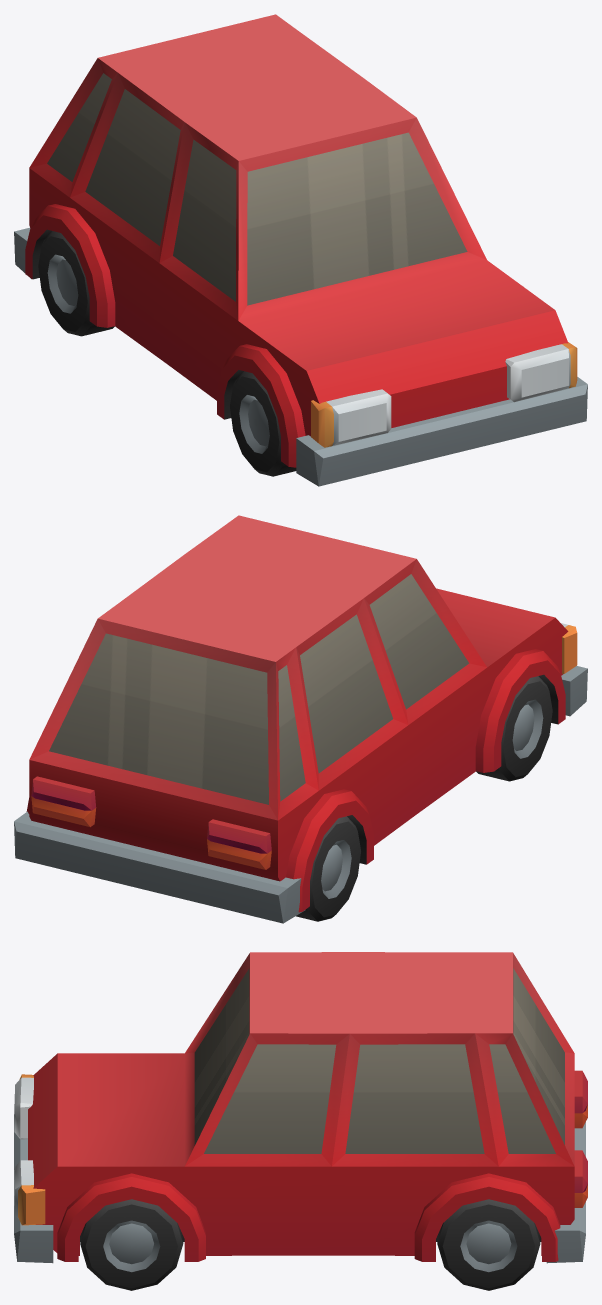
Rendered from car.glb.
3 renders of one model, top to bottom at view 1: azimuth 30°, elevation 25°; view 2: azimuth 150°, elevation 25°; view 3: azimuth 270°, elevation 25°, orthographic. The views are drawn at different scales.
Parts seen in each view (by area): view 1: car_hatchback, car_hatchback_wheel_rear_right, car_hatchback_wheel_front_right; view 2: car_hatchback, car_hatchback_wheel_front_right, car_hatchback_wheel_rear_right; view 3: car_hatchback, car_hatchback_wheel_front_left, car_hatchback_wheel_rear_left.
Part boxes in pixels (box(x1,y1,x2,y2)): car_hatchback: box(14, 14, 587, 486); car_hatchback_wheel_rear_right: box(38, 231, 114, 336); car_hatchback_wheel_front_right: box(230, 371, 296, 476); car_hatchback: box(14, 515, 587, 923); car_hatchback_wheel_front_right: box(476, 676, 552, 781); car_hatchback_wheel_rear_right: box(296, 816, 360, 921); car_hatchback: box(14, 952, 587, 1263); car_hatchback_wheel_front_left: box(80, 1199, 183, 1290); car_hatchback_wheel_rear_left: box(437, 1199, 540, 1290).
Bounding box in the file's own units: 0.419 × 0.3688 × 0.8061.
1 material, 1 textured.
